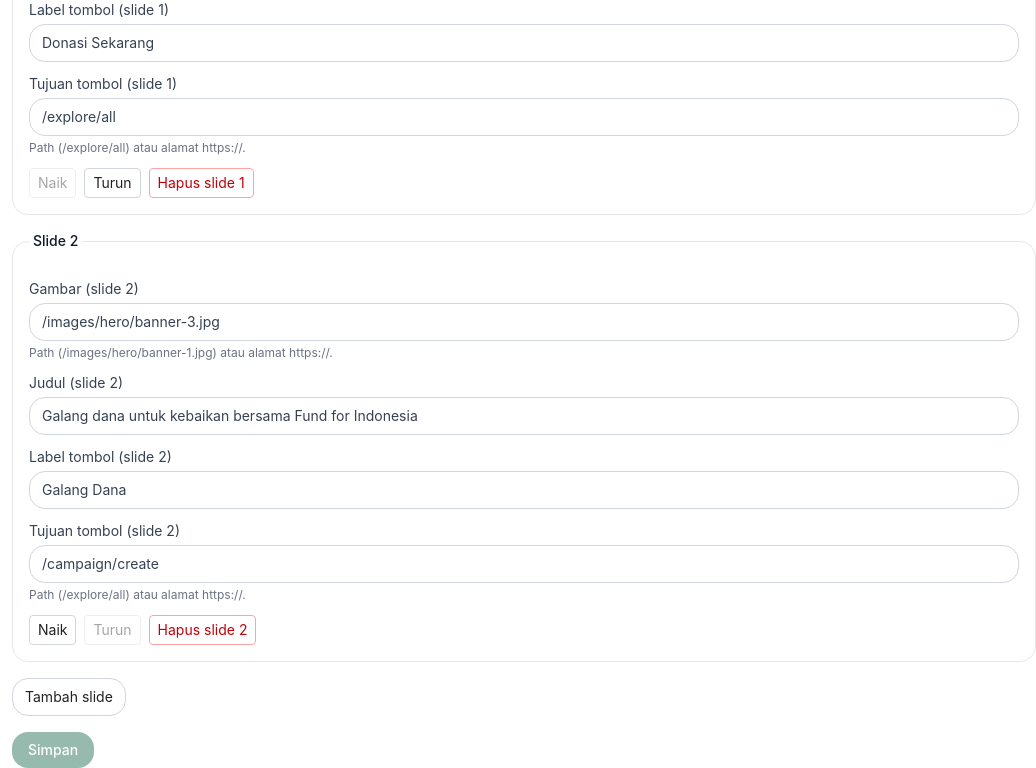
Scenario: AdminSiteSettingForm › adds, reorders and removes hero slides
(page scrolled)
Click the button "Tambah slide". click: (69, 697)
box: [12,678,126,716]
(page scrolled)
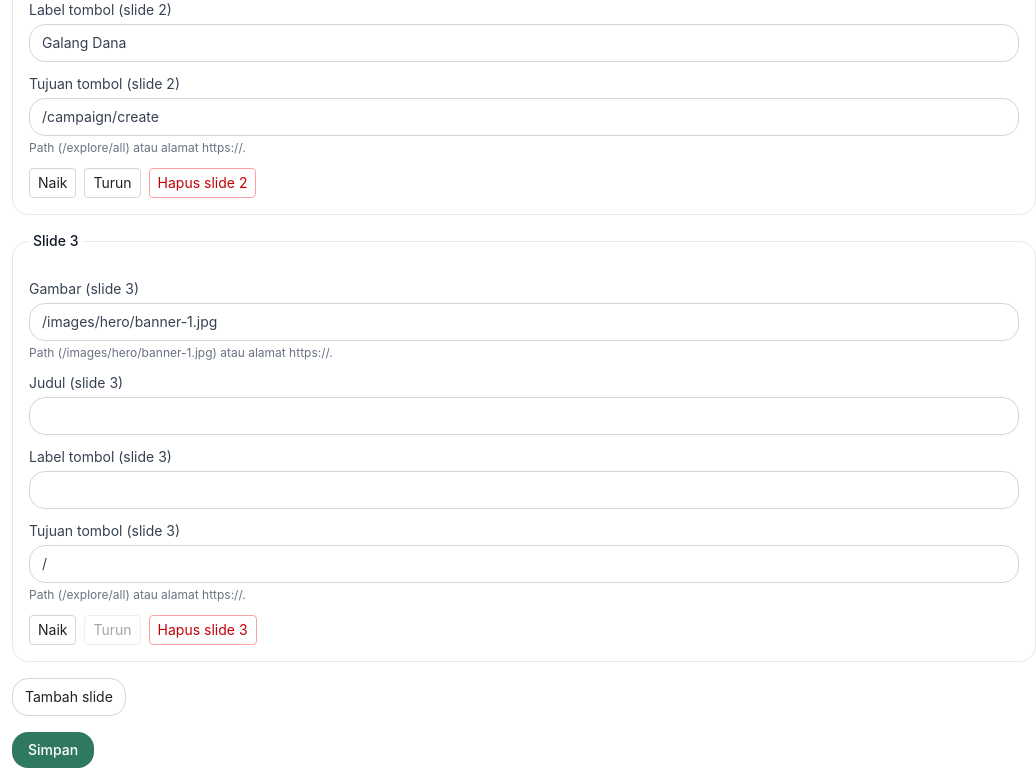
Now the field labelled "Judul (slide 3)" is shown, box [29,397,1019,435]
Click the button "Hapus slide 3". click: (203, 630)
box: [149,615,257,645]
(page scrolled)
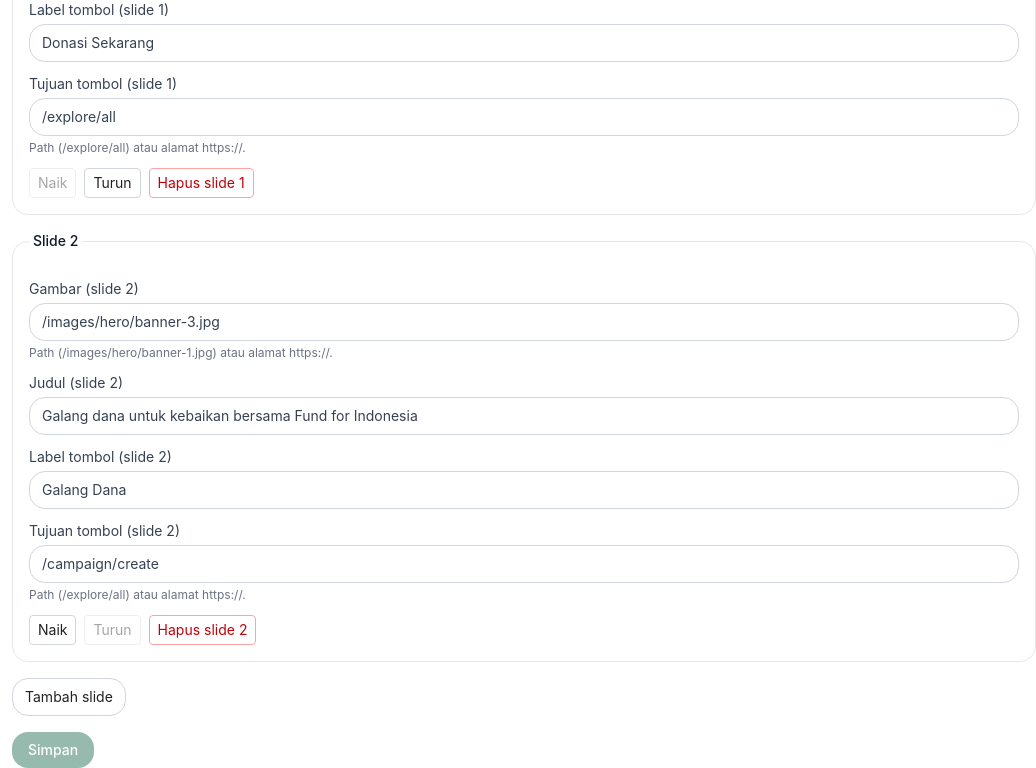
Now the label labelled "Judul (slide 3)" is gone
Click the button "Turun" below "Tujuan tombol (slide 1)". click: (113, 183)
box: [84,168,141,198]
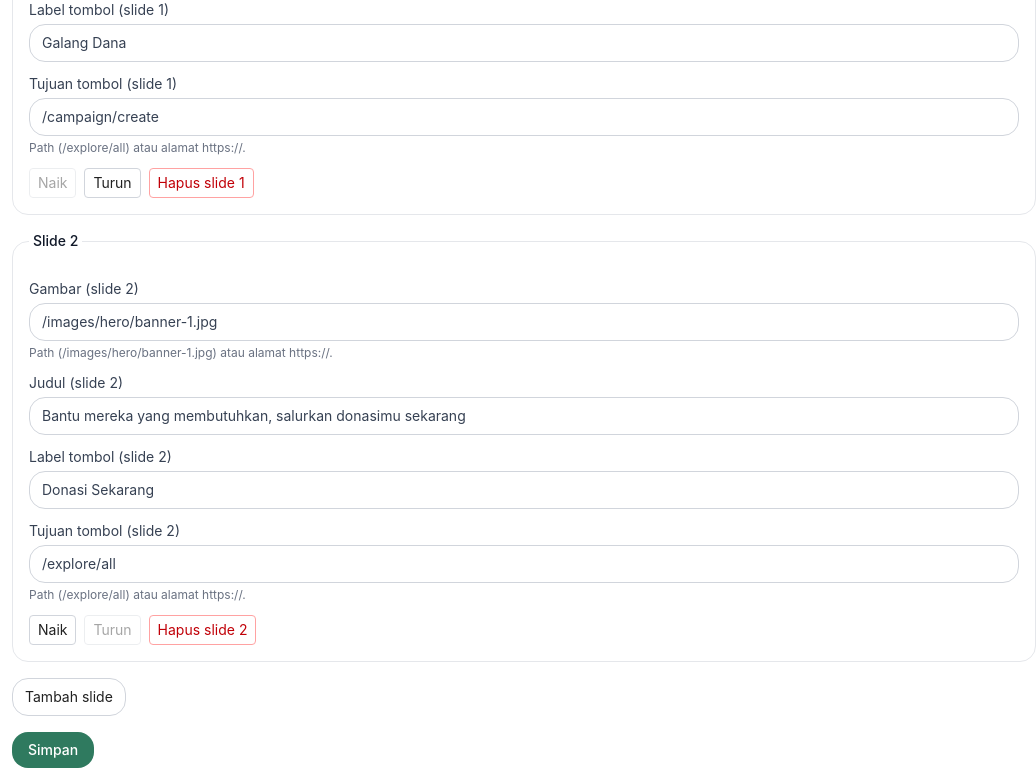
Now the field labelled "Label tombol (slide 1)" holds "Galang Dana", box [29,24,1019,62]
